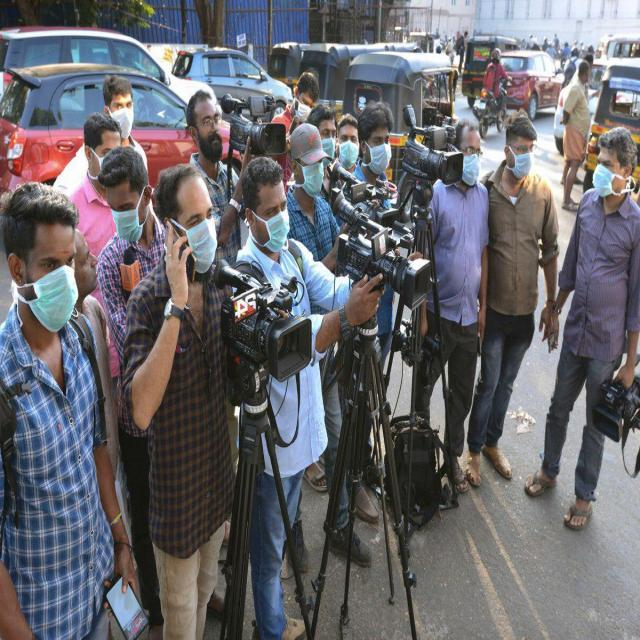face: (2, 184, 79, 336), (155, 163, 219, 282), (101, 143, 152, 253), (238, 158, 292, 255), (63, 216, 101, 312), (355, 99, 396, 174), (592, 133, 634, 206), (288, 121, 325, 202), (447, 114, 488, 182), (101, 72, 137, 142), (192, 93, 224, 164), (303, 105, 339, 165), (501, 120, 537, 180), (91, 121, 123, 179), (335, 114, 360, 172), (293, 79, 319, 122), (578, 63, 591, 85)
